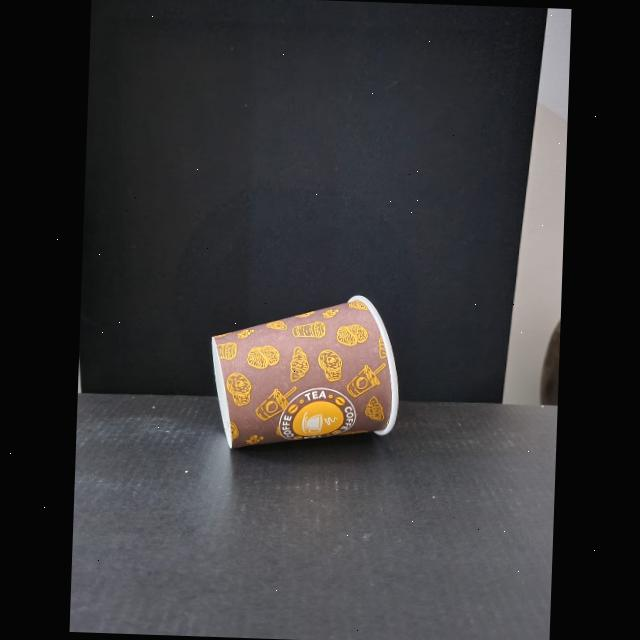trash: (193, 270, 421, 470)
